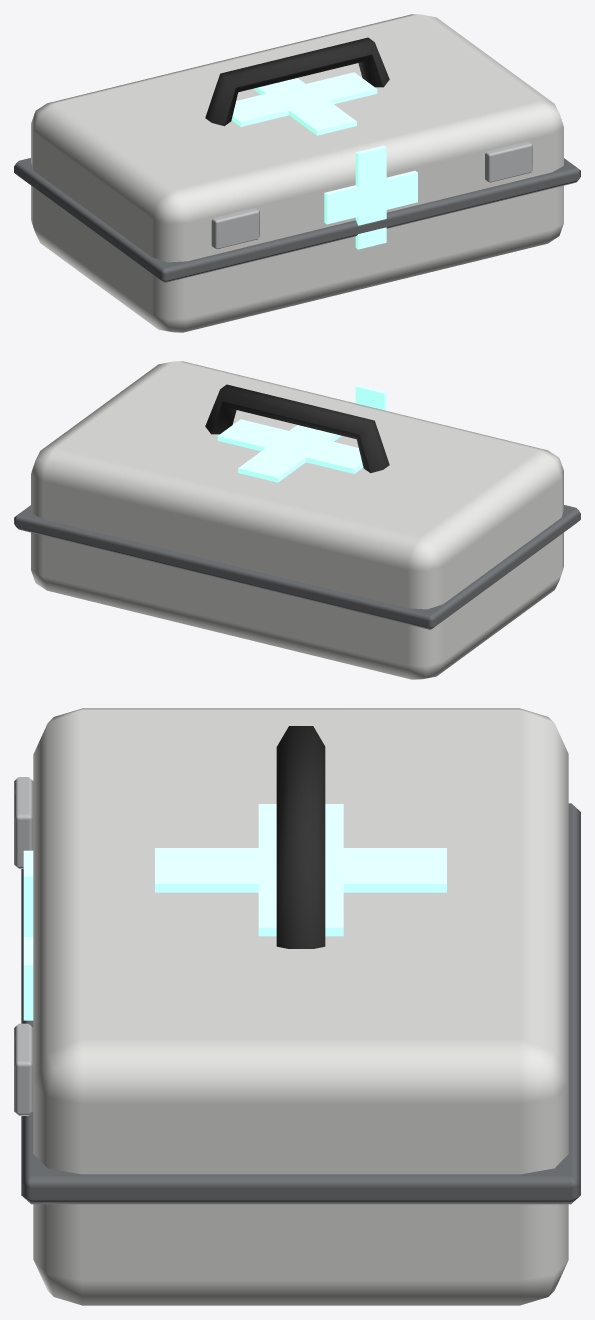
File: medkit.glb
The picture shows the model from 3 angles, top to bottom: view 1: azimuth 30°, elevation 25°; view 2: azimuth 150°, elevation 25°; view 3: azimuth 270°, elevation 25°; orthographic projection. The views are drawn at different scales.
Parts seen in each view (by area): view 1: medkit; view 2: medkit; view 3: medkit.
Boxes of the visible parts, left/top/right/bottom form: medkit: left=14, top=14, right=580, bottom=332; medkit: left=14, top=361, right=580, bottom=679; medkit: left=14, top=708, right=580, bottom=1305.
Size of the model in its own units: 0.37 by 0.157 by 0.233.
